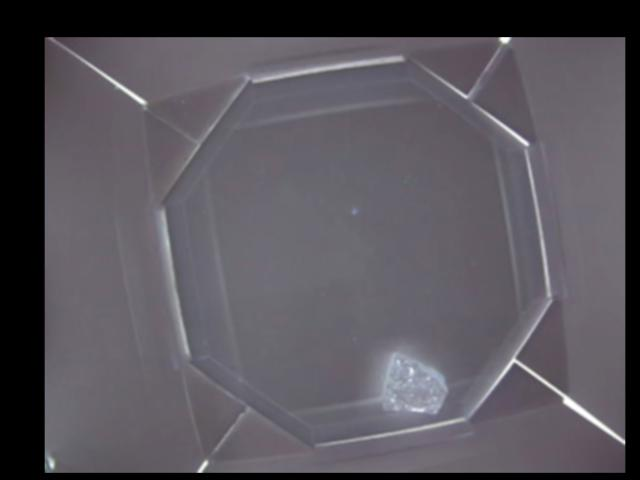China: (383, 354, 449, 415)
